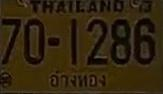0: (24, 18, 44, 64)
1: (70, 18, 76, 64)
2: (87, 18, 106, 64)
6: (134, 18, 154, 63)
7: (1, 18, 20, 64)
8: (110, 18, 130, 64)
ATG: (44, 69, 110, 89)
